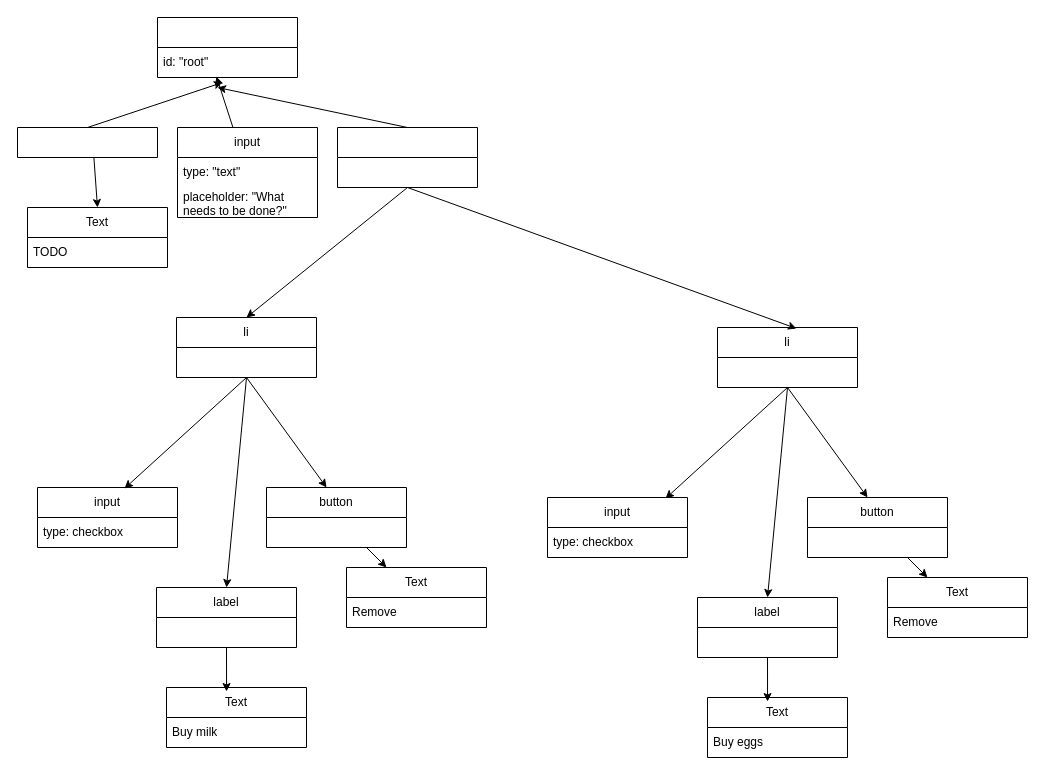
This 1045x775 diagram has some shape labels left out. Each missing label, with the box of its shape:
div: (156, 16, 298, 78)
h1: (16, 126, 158, 158)
ul: (336, 126, 478, 188)
